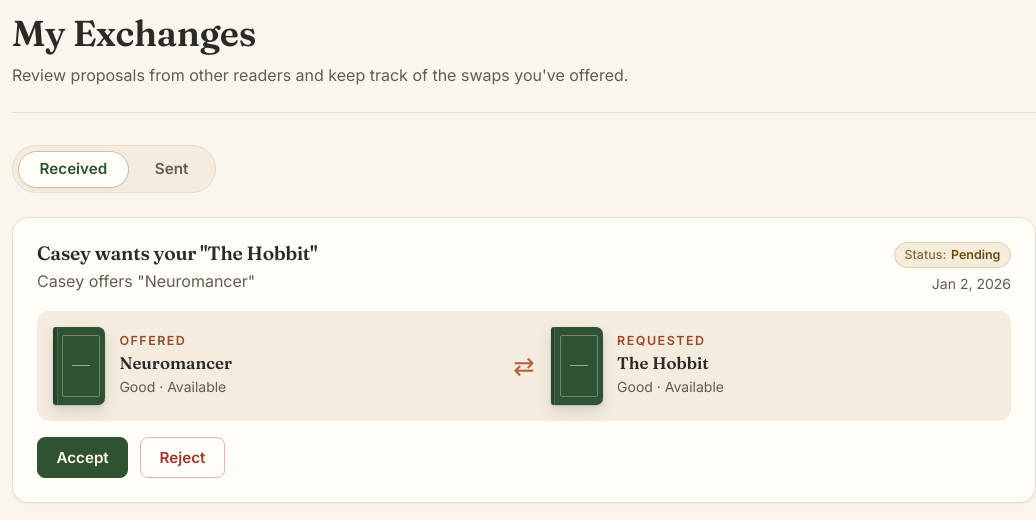
Scenario: exchange UI › shows received and sent exchanges with appropriate actions
Expected: the heading "Casey wants your \"The Hobbit\"" is shown, [37,242,317,265]
Expected: the button "Accept" is shown, [37,437,128,478]
Click the tab "Sent": (172, 169) [133,151,210,188]
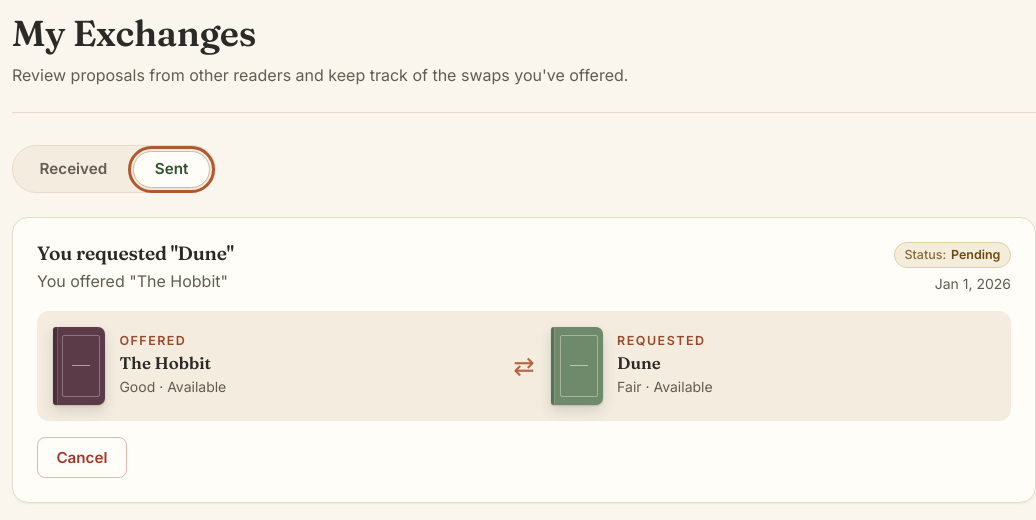
Expected: the button "Cancel" is shown, [37,437,127,478]
